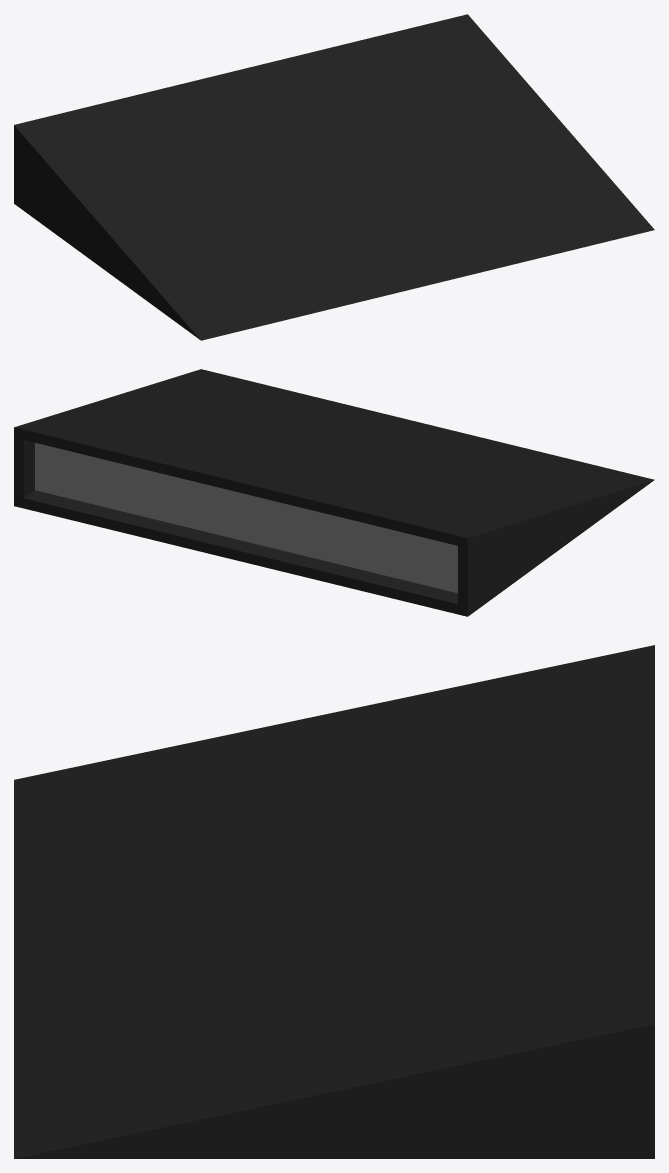
File: spoiler2.glb
The picture shows the model from 3 angles, top to bottom: view 1: azimuth 30°, elevation 25°; view 2: azimuth 150°, elevation 25°; view 3: azimuth 270°, elevation 25°; orthographic projection. The views are drawn at different scales.
Visible parts, largest first — view 1: spoiler2; view 2: spoiler2; view 3: spoiler2.
Part boxes in pixels (left/top/right/bottom): spoiler2: left=14, top=14, right=654, bottom=340; spoiler2: left=14, top=369, right=654, bottom=616; spoiler2: left=14, top=645, right=654, bottom=1158.
Bounding box in the file's own units: 2.9 × 0.4817 × 2.08.
Materials: 1 (1 with a texture image).
